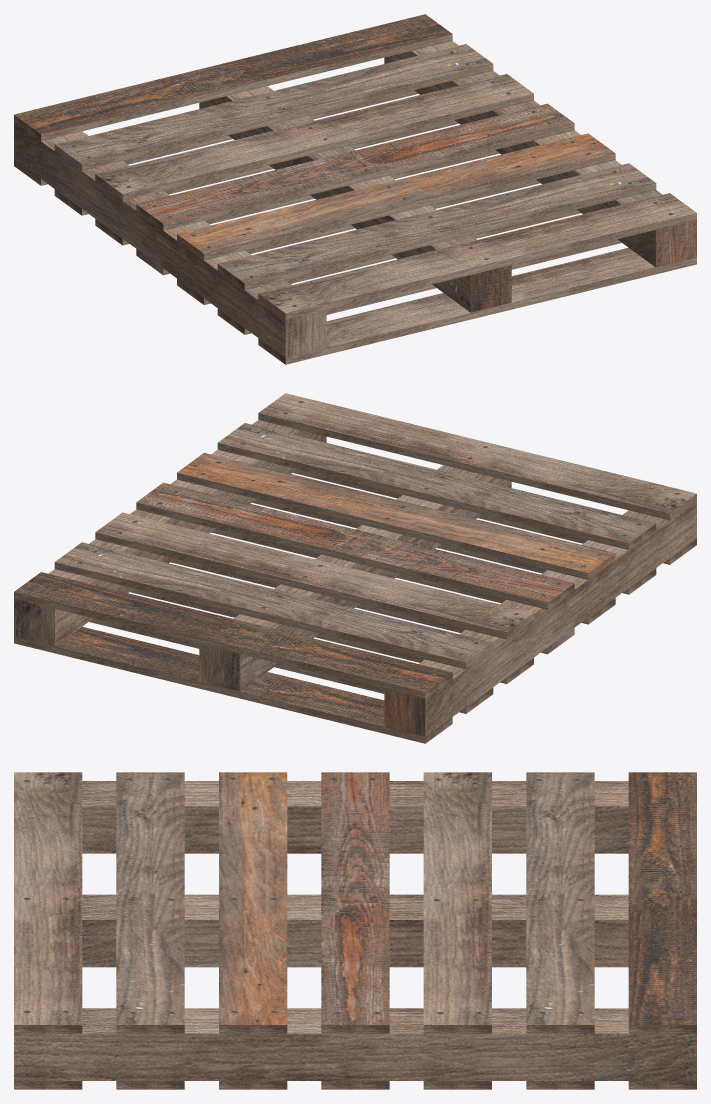
Rendered from Pallet.fbx.
3 views of the same model, one above another, from view 1: azimuth 30°, elevation 25°; view 2: azimuth 150°, elevation 25°; view 3: azimuth 270°, elevation 25° (orthographic). The views are drawn at different scales.
Parts seen in each view (by area): view 1: Pallet; view 2: Pallet; view 3: Pallet.
Boxes of the visible parts, x1,y1,x2,y2 form: Pallet: [14, 14, 696, 364]; Pallet: [14, 393, 696, 743]; Pallet: [14, 772, 696, 1089].
Bounding box in the file's own units: 105 × 12.56 × 120.
1 material, 1 textured.
